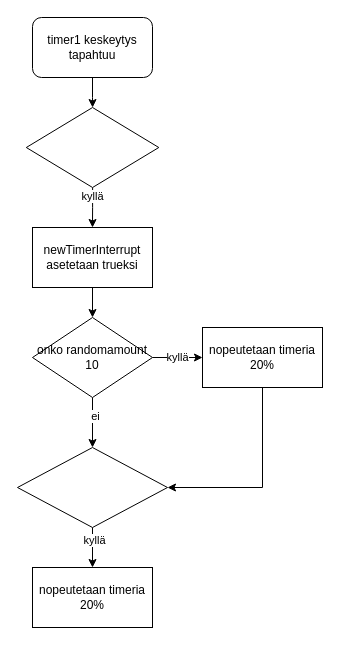
Image size: 340x645. Some labels were removed from this diagram. Here are the shapes that lost their labels. From the top down, the centre of each, then its label:
[92,147]: onko randomamount alle 99
[92,487]: onko viime nopeudenvaihdosta randomamount kasvanut kymmenellä
